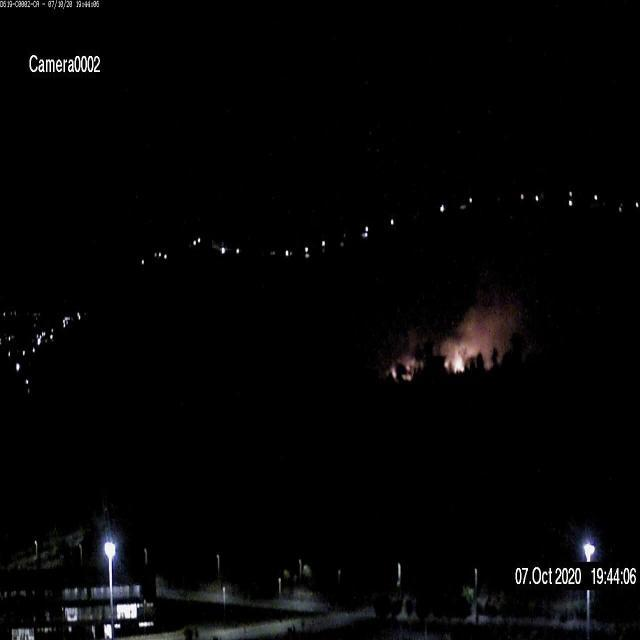Fire: (448, 351, 465, 373)
Smoke: (442, 299, 520, 369)
